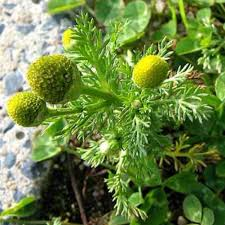pineple: (85, 48, 206, 161)
